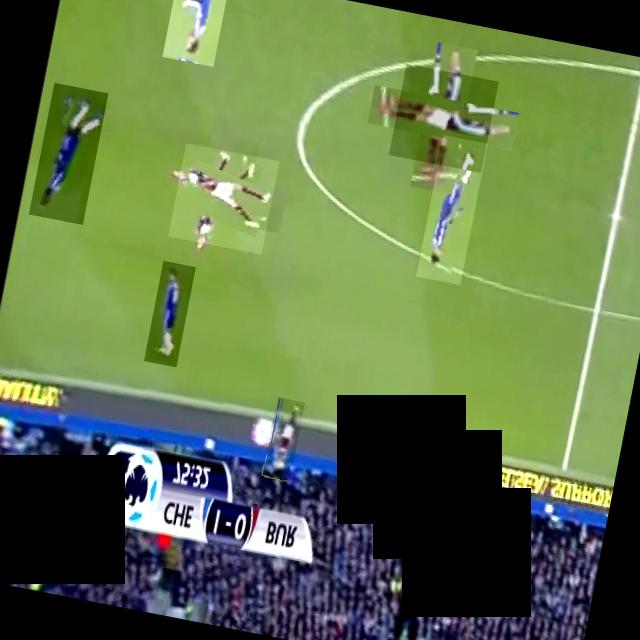soccer-player: (168, 142, 278, 254), (388, 62, 498, 172), (28, 82, 108, 224), (415, 134, 487, 284), (143, 260, 195, 366), (161, 0, 229, 65), (261, 396, 304, 481)
